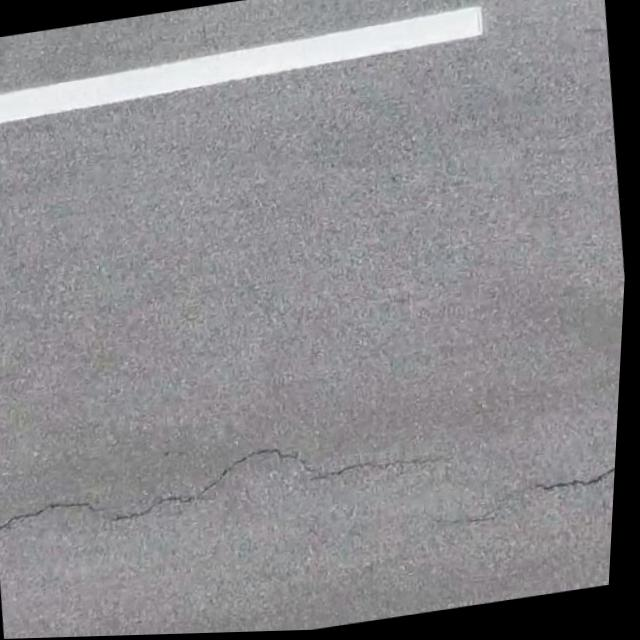Crack: (0, 419, 460, 554), (508, 443, 621, 512)
